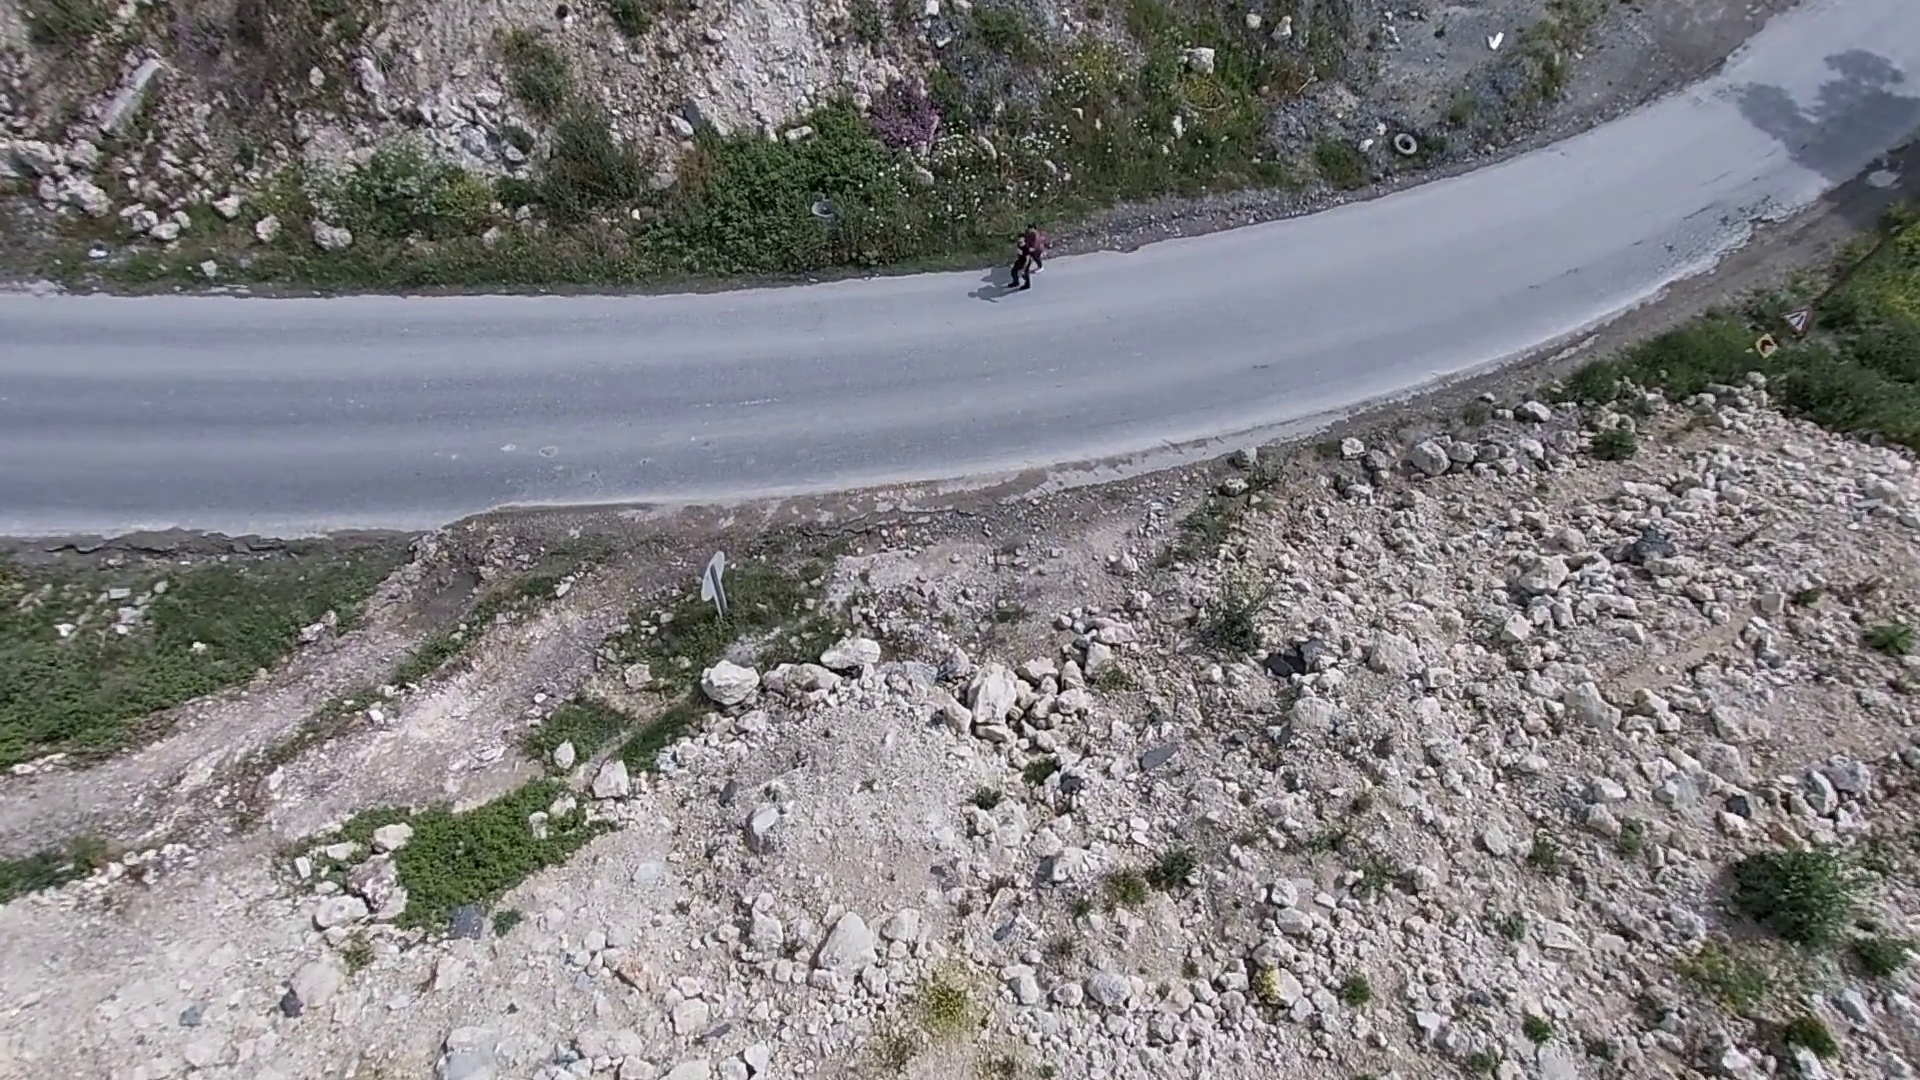insan: (1005, 228, 1042, 289), (1026, 219, 1053, 277)
